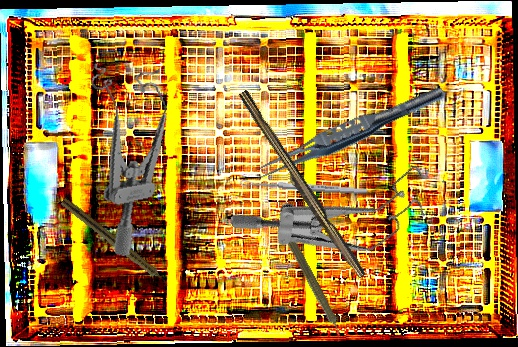Handpiece: (58, 197, 172, 289), (274, 222, 349, 344)
Scalpel Handle: (232, 89, 370, 282)
Speculum: (227, 107, 450, 311), (75, 50, 197, 258)
Surgical Spoon: (239, 178, 369, 196)
Tissue Forceps: (250, 77, 448, 189)
